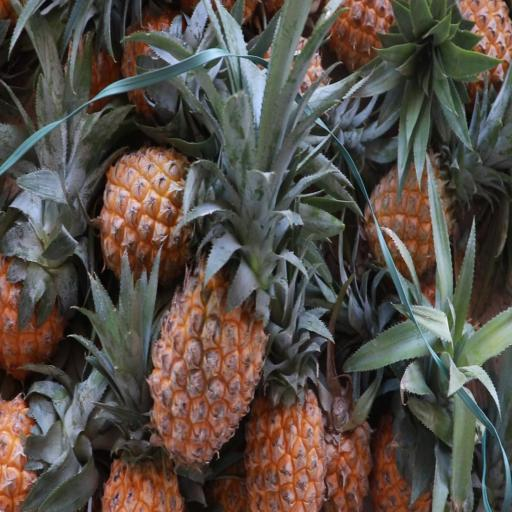Pineapple - v8 v1: (145, 230, 274, 473), (102, 130, 240, 290), (0, 214, 94, 386), (362, 142, 457, 294), (99, 366, 188, 512), (0, 377, 96, 512), (241, 367, 329, 512), (326, 381, 373, 512)
